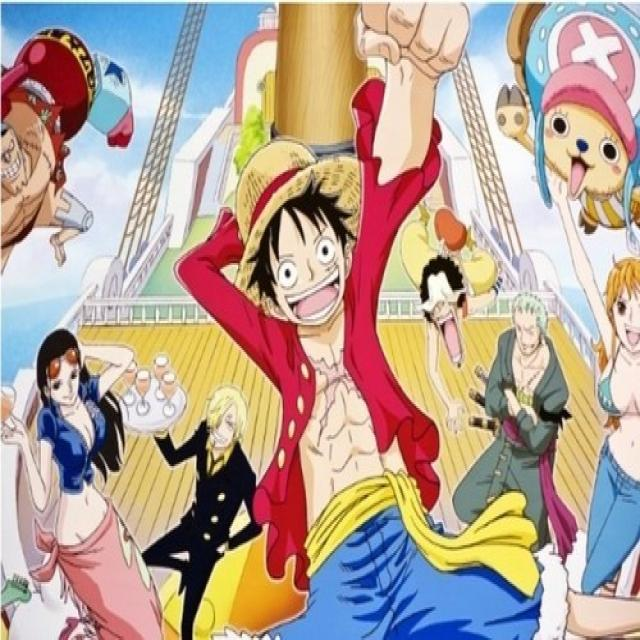Chyopa: (489, 0, 640, 249)
Franky: (0, 103, 28, 192)
Luffy: (228, 105, 366, 339)
Nami: (592, 252, 640, 362)
NicoRobin: (19, 323, 110, 430)
Sangdi: (200, 376, 264, 466)
Usopp: (420, 256, 480, 381)
Zoro: (510, 286, 550, 357)
